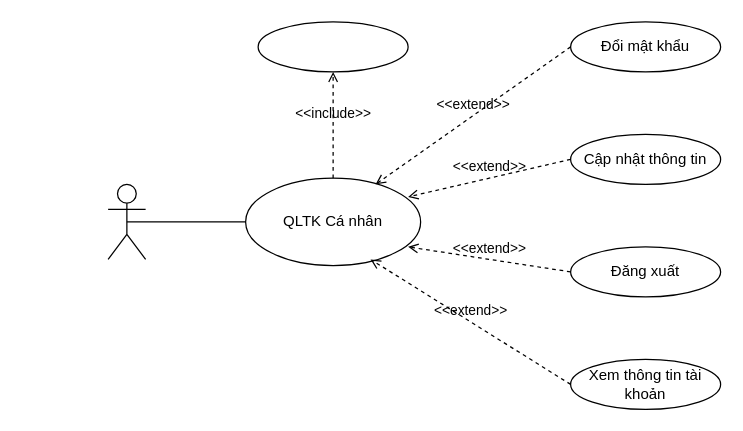
The diagram is 743 pixels wide and 431 high, and some of its shapes have lost their labels. The shapes that lost their labels are listed below. From the top down, each one's centre as x and y in pixels, then its label:
[332,46]: Đăng nhập thành công
[126,221]: ADMIN/ Nhân viên/ khách hàng
